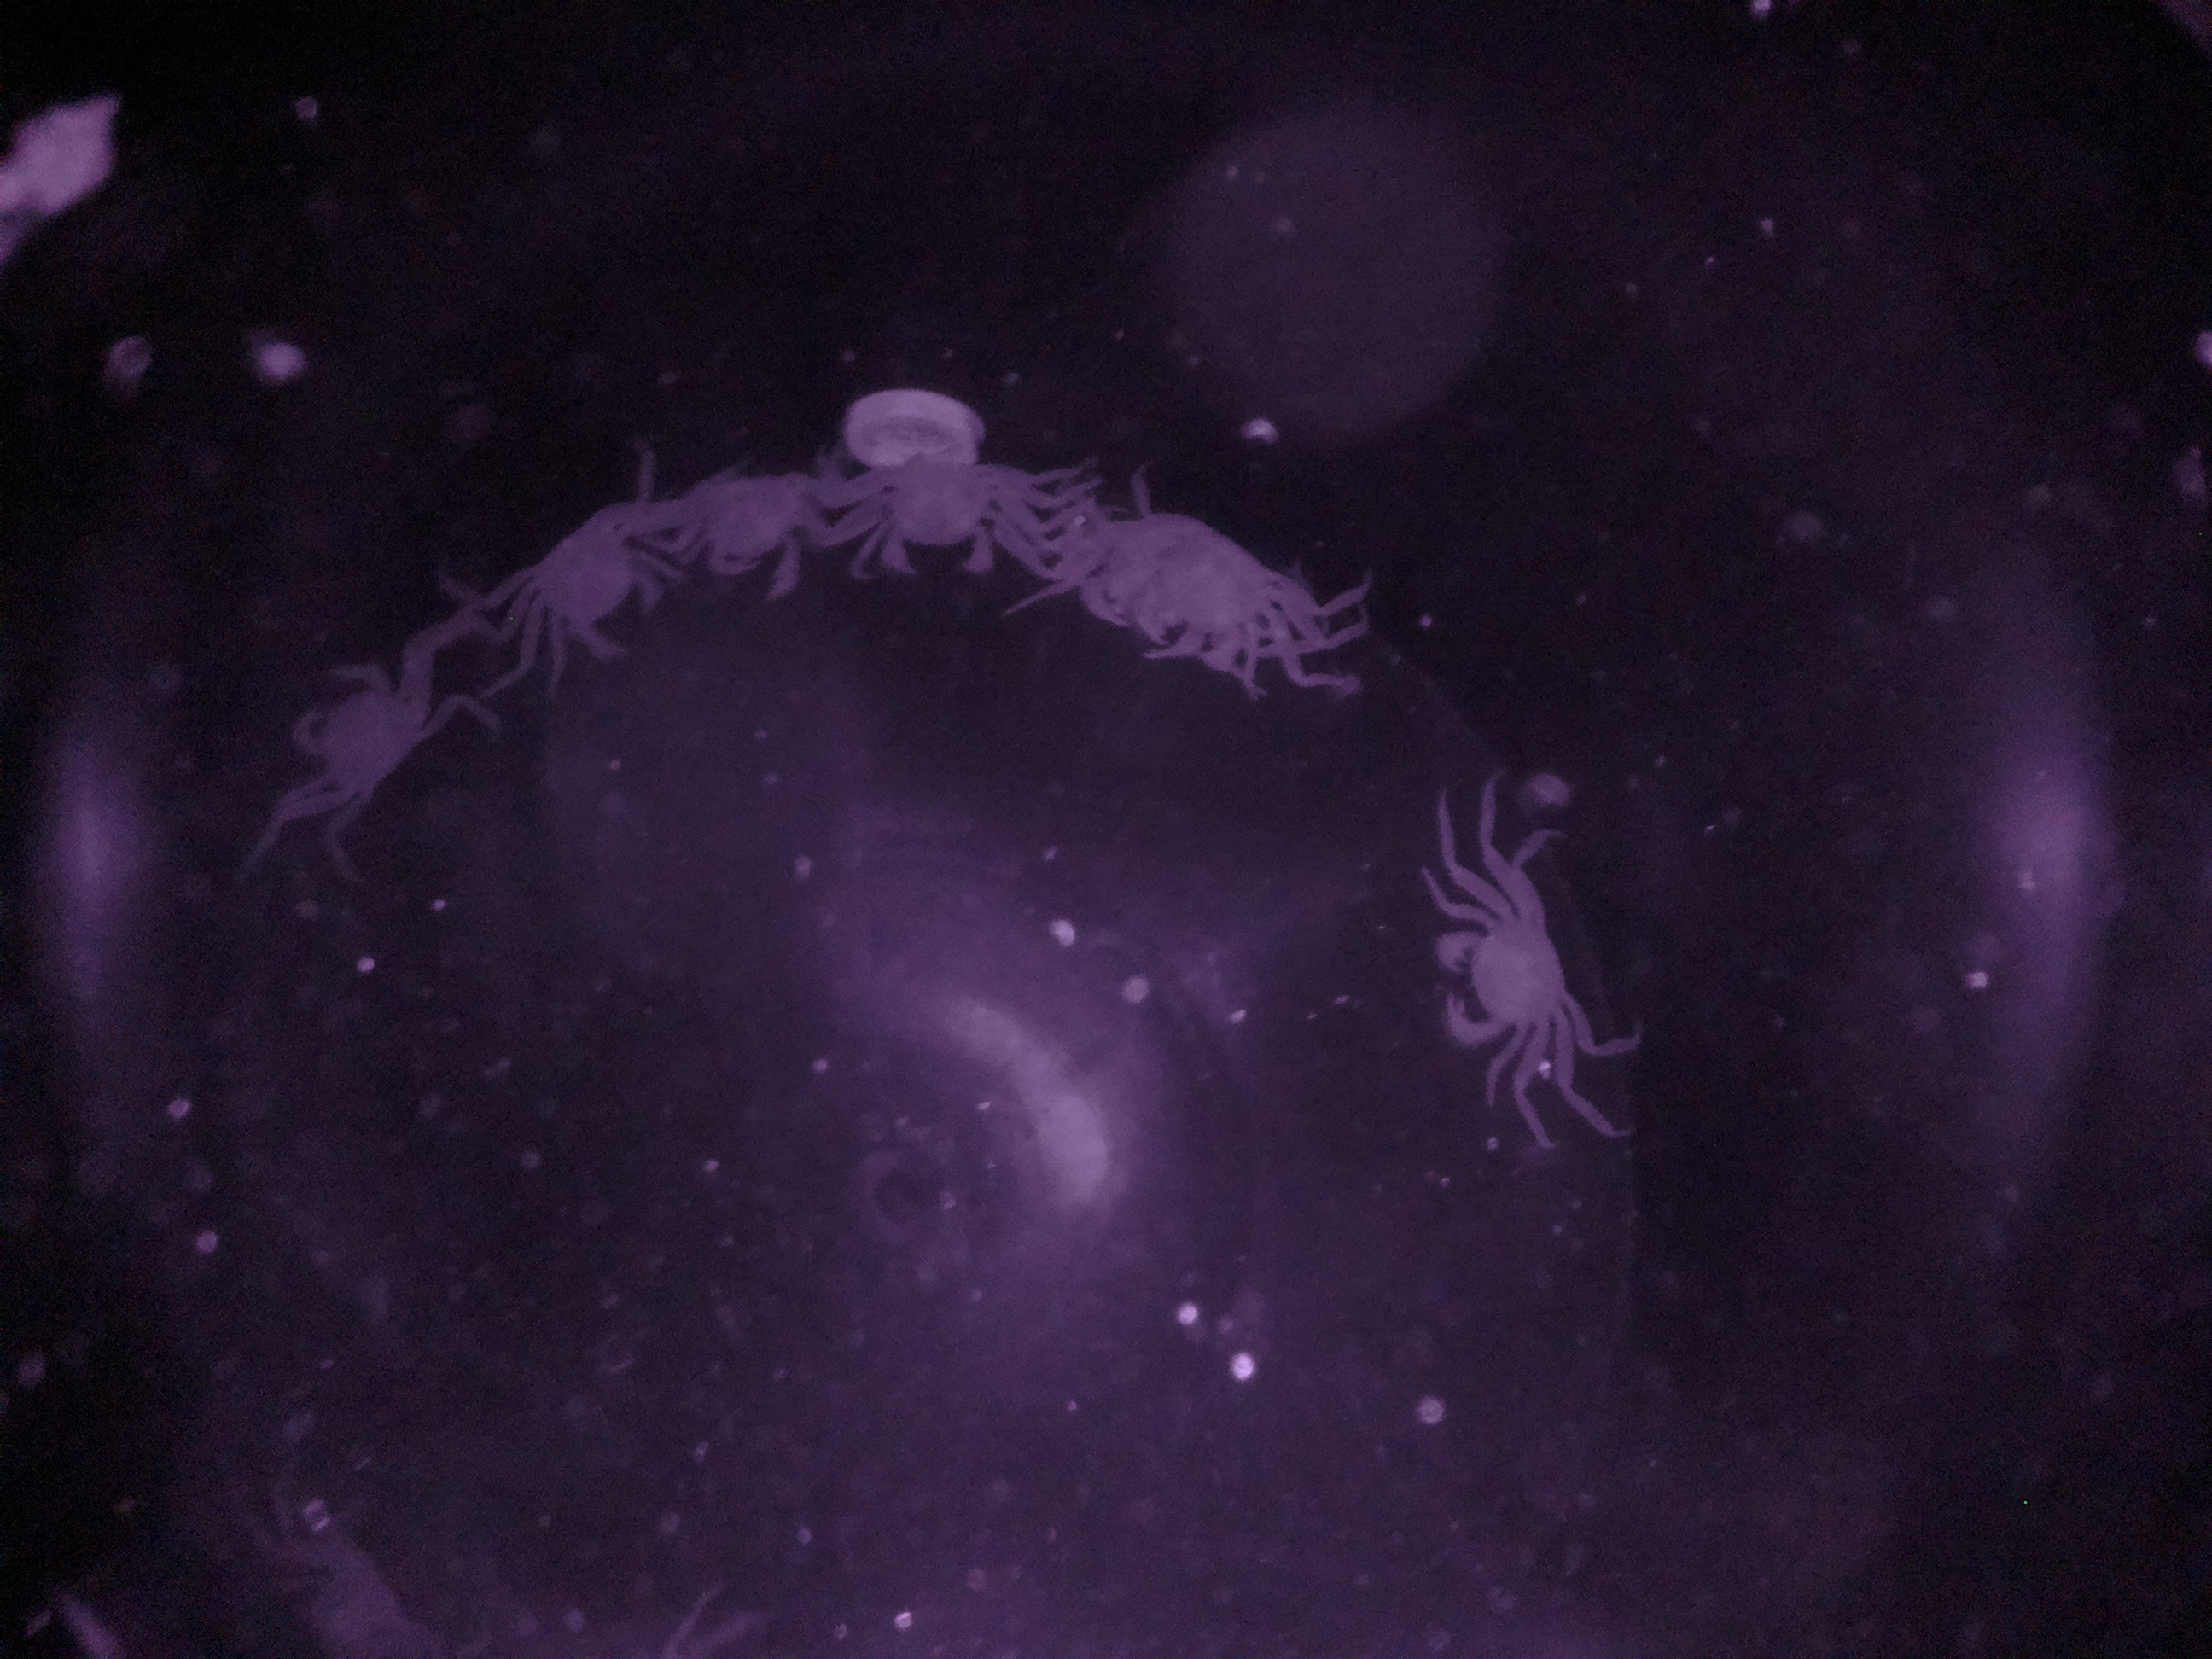Crab: (1420, 856, 1615, 1096), (280, 638, 491, 840), (845, 425, 1024, 592)
